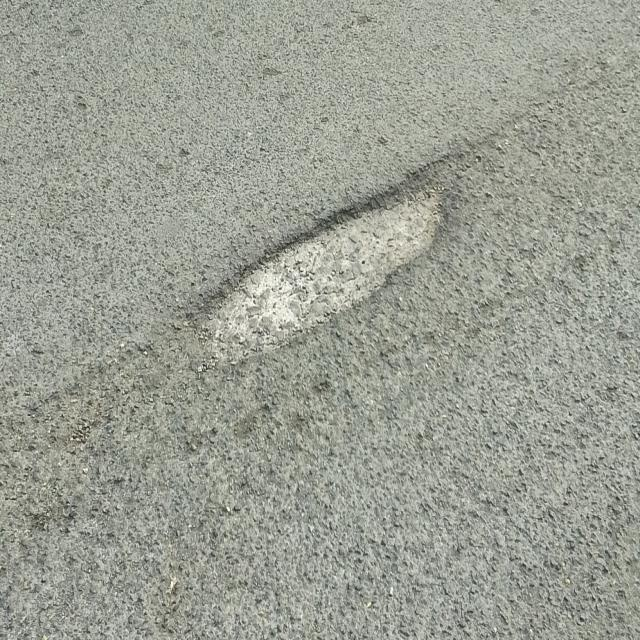pothole: (128, 114, 492, 408)
